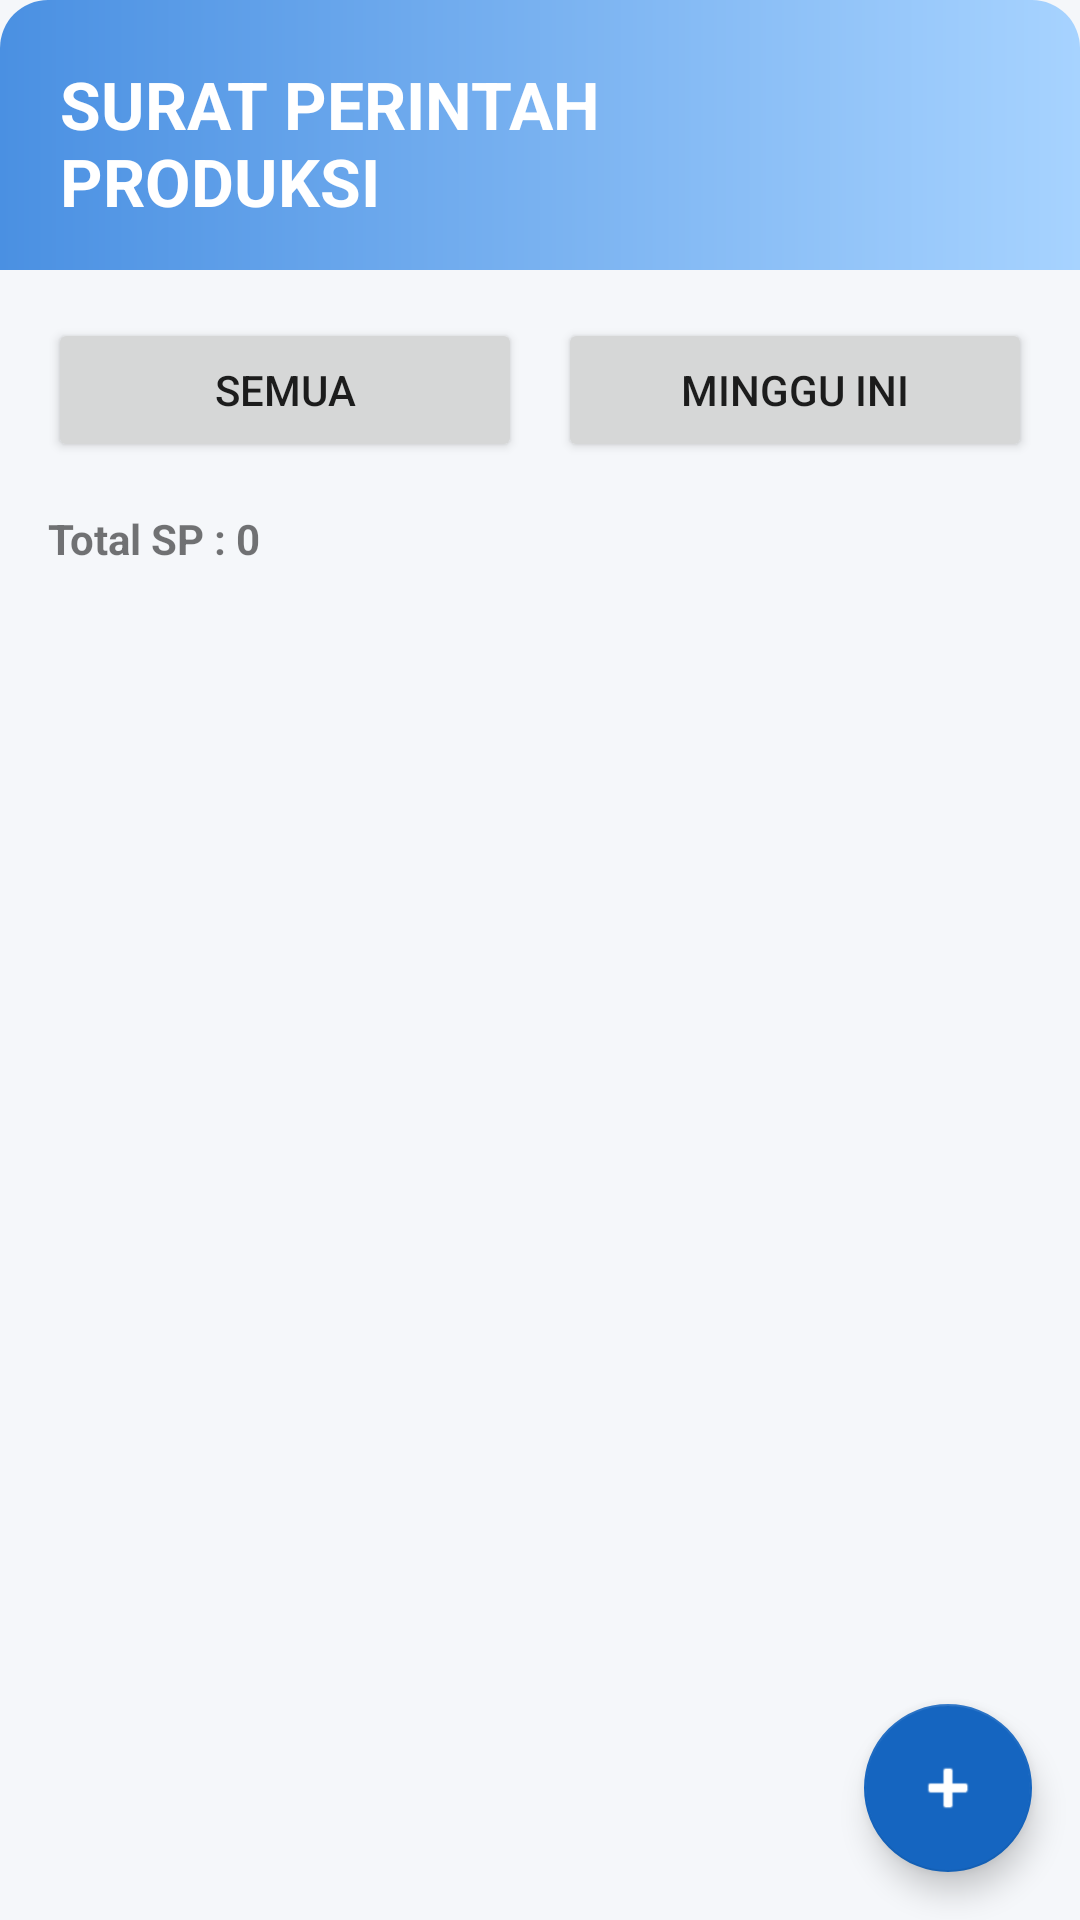

Screen size 1080×1920. Icon name, then its box in pixels as {"left": x1, "top": y1, "right": x2, "bottom": y2}:
Tambah Surat Perintah: {"left": 864, "top": 1704, "right": 1032, "bottom": 1872}
